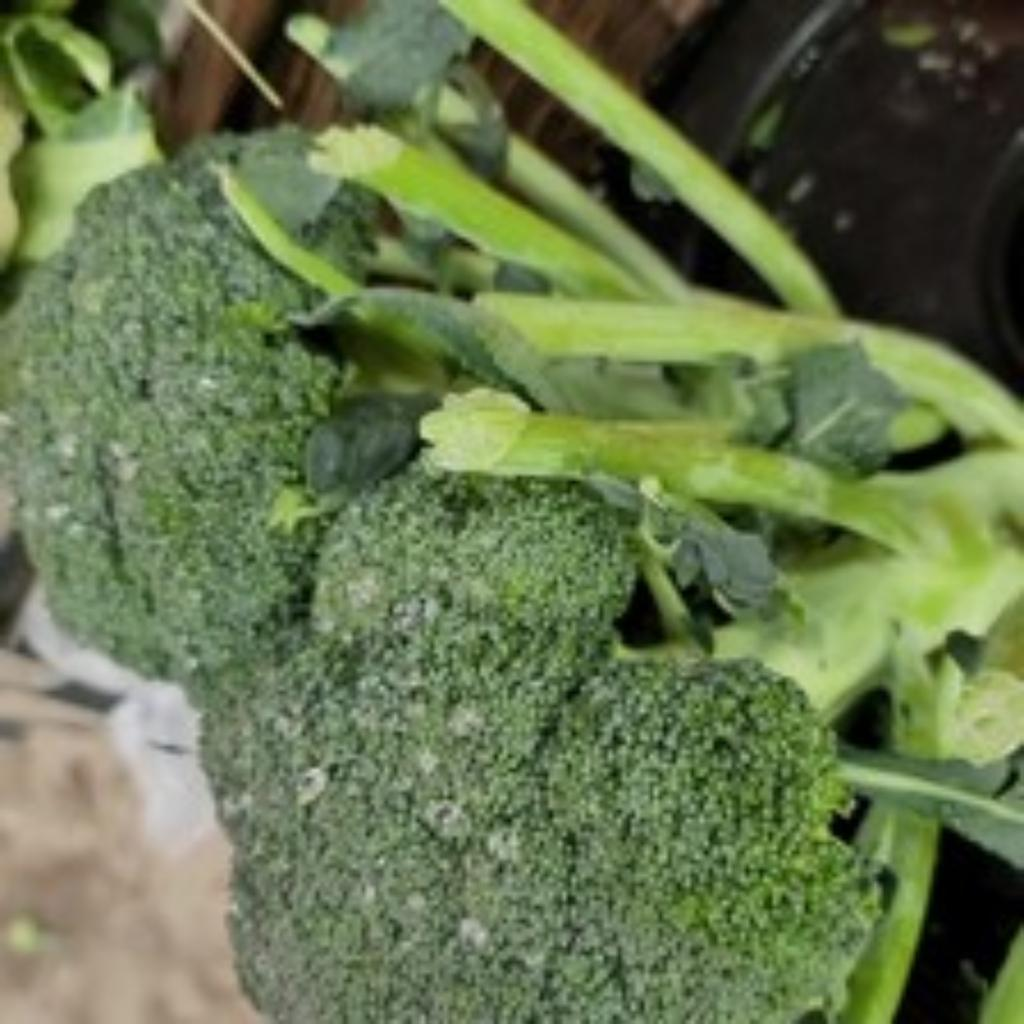Broccoli: (24, 142, 876, 1024), (24, 142, 876, 1024), (236, 470, 876, 1024)
